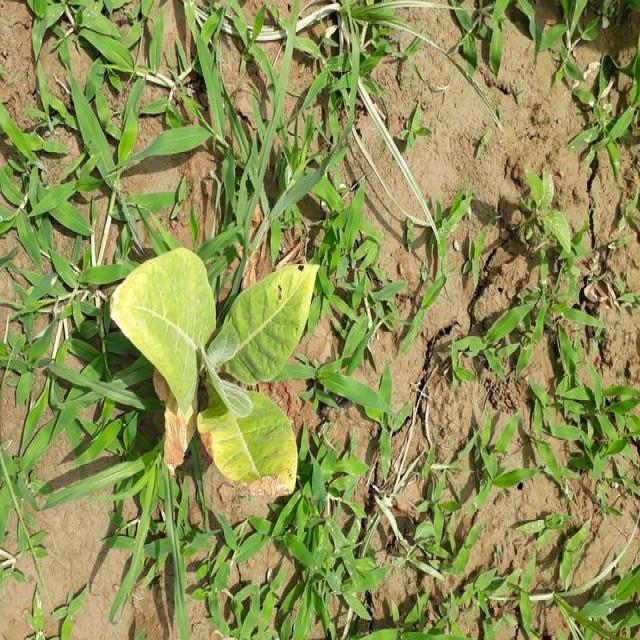crop: (98, 237, 322, 509)
